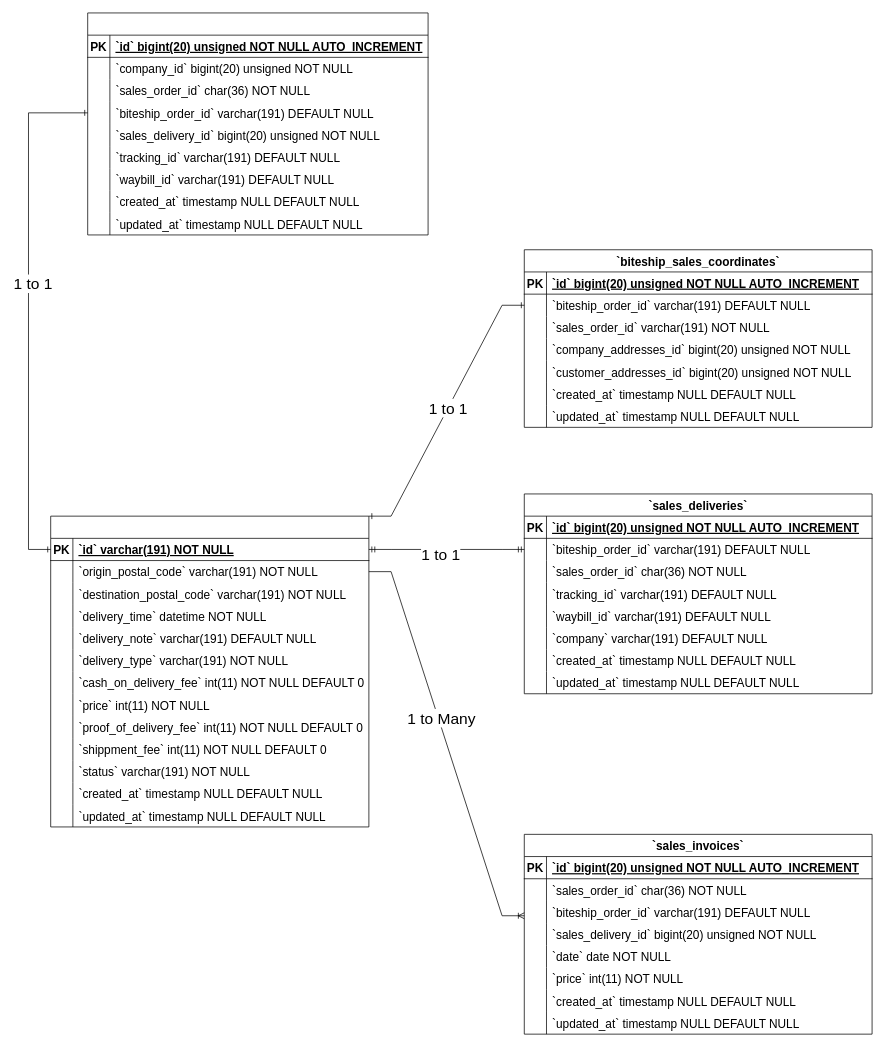
Some shapes in this 885 by 1047 pixel diagram are drawn without their labels. Each missing label, with the box of its shape:
`biteship_orders`: (50, 515, 369, 827)
`sales_summaries`: (87, 12, 428, 235)
